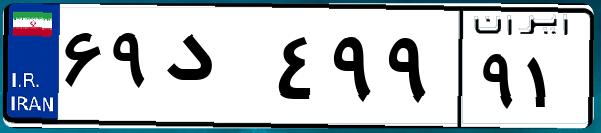1: (525, 38, 570, 115)
4: (270, 28, 330, 110)
6: (57, 26, 110, 100)
9: (385, 28, 445, 110), (330, 28, 385, 110), (475, 38, 525, 113), (110, 28, 158, 98)
د: (158, 20, 270, 120)
